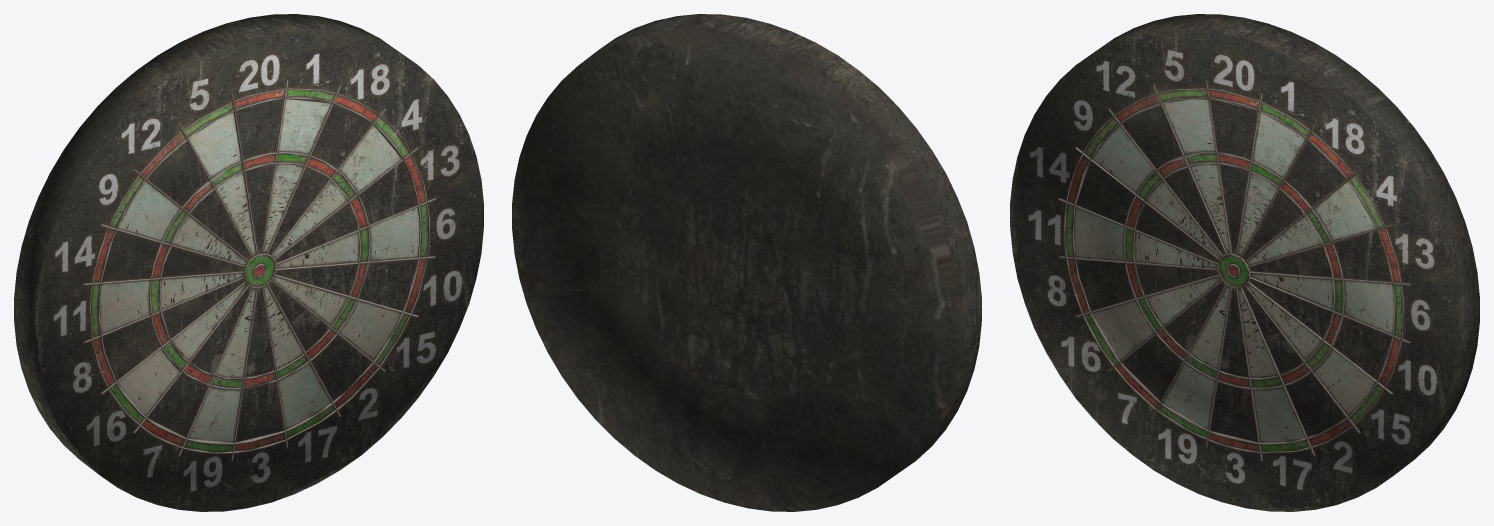
The model's file is dartboard.glb.
3 views of the same model, side by side, from view 1: azimuth 30°, elevation 25°; view 2: azimuth 150°, elevation 25°; view 3: azimuth 330°, elevation 25° (orthographic).
Parts seen in each view (by area): view 1: dartboard; view 2: dartboard; view 3: dartboard.
Part boxes in pixels (left/top/right/bottom): dartboard: left=14, top=14, right=483, bottom=511; dartboard: left=512, top=14, right=981, bottom=511; dartboard: left=1010, top=14, right=1479, bottom=511.
Bounding box in the file's own units: 0.4507 × 0.4507 × 0.0398.
Materials: 1 (1 with a texture image).
